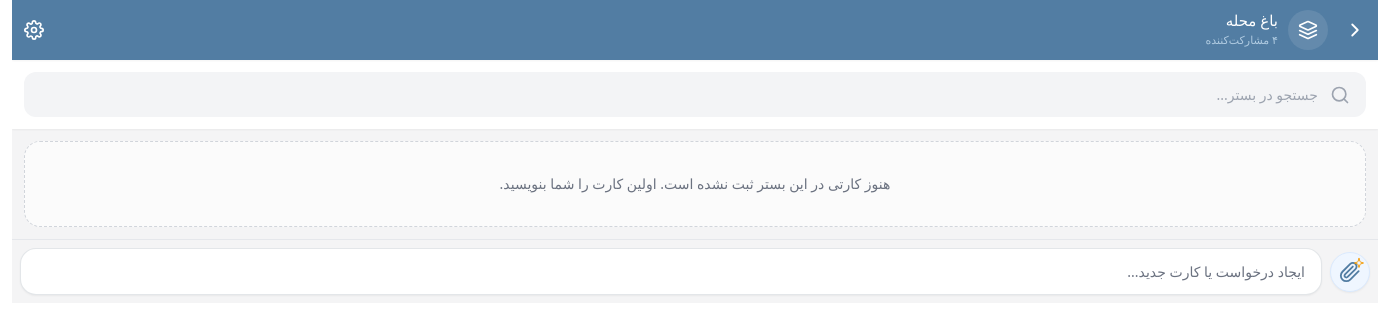
Test: SpacePage: everything that is not the conversation, behind the toolbar › offers editing to the manager of a published space
The width and height of the screenshot is (1390, 320).
expect the heading "باغ محله" is shown: met, box [1226, 10, 1278, 30]
Click the button named "مدیریت بستر".
click(34, 30)  # box [16, 12, 52, 48]
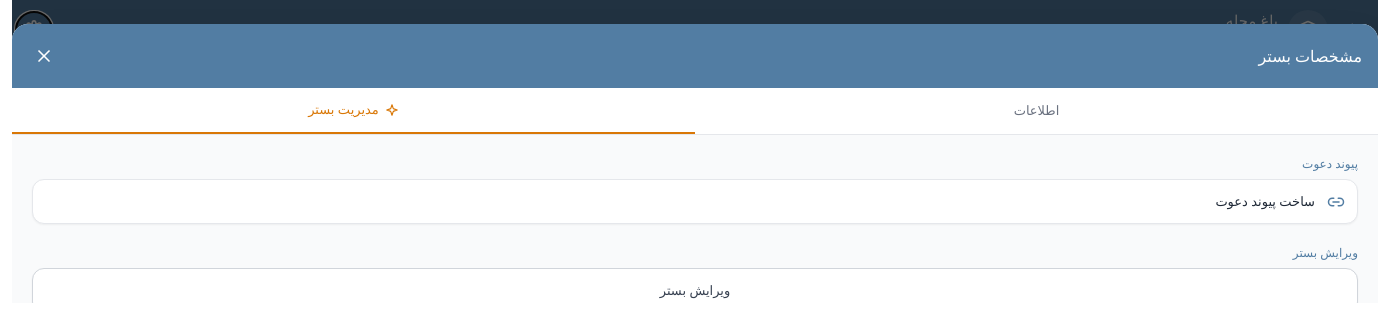
expect the button "ویرایش بستر" is shown: met, box [32, 268, 1358, 303]
